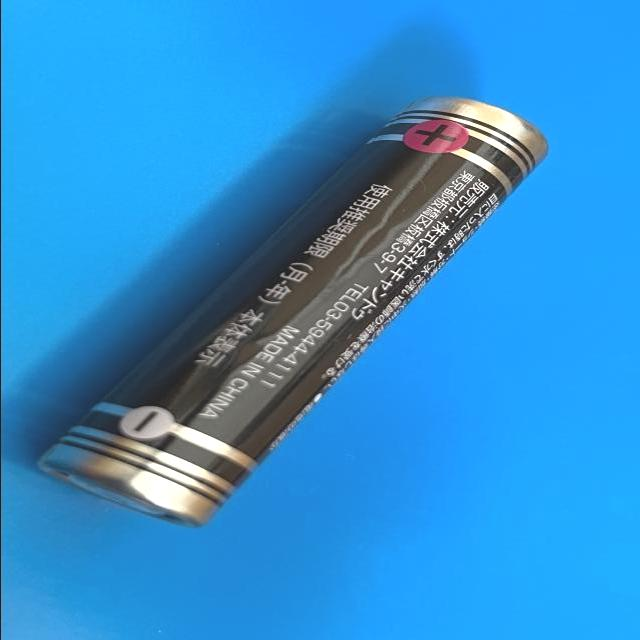AA: (36, 94, 556, 529)
